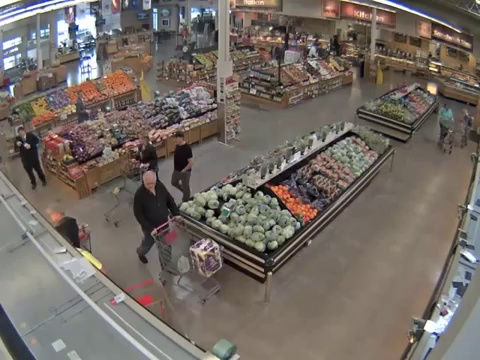face: (144, 176, 155, 190), (17, 128, 26, 138), (175, 134, 182, 144), (139, 135, 145, 145)
